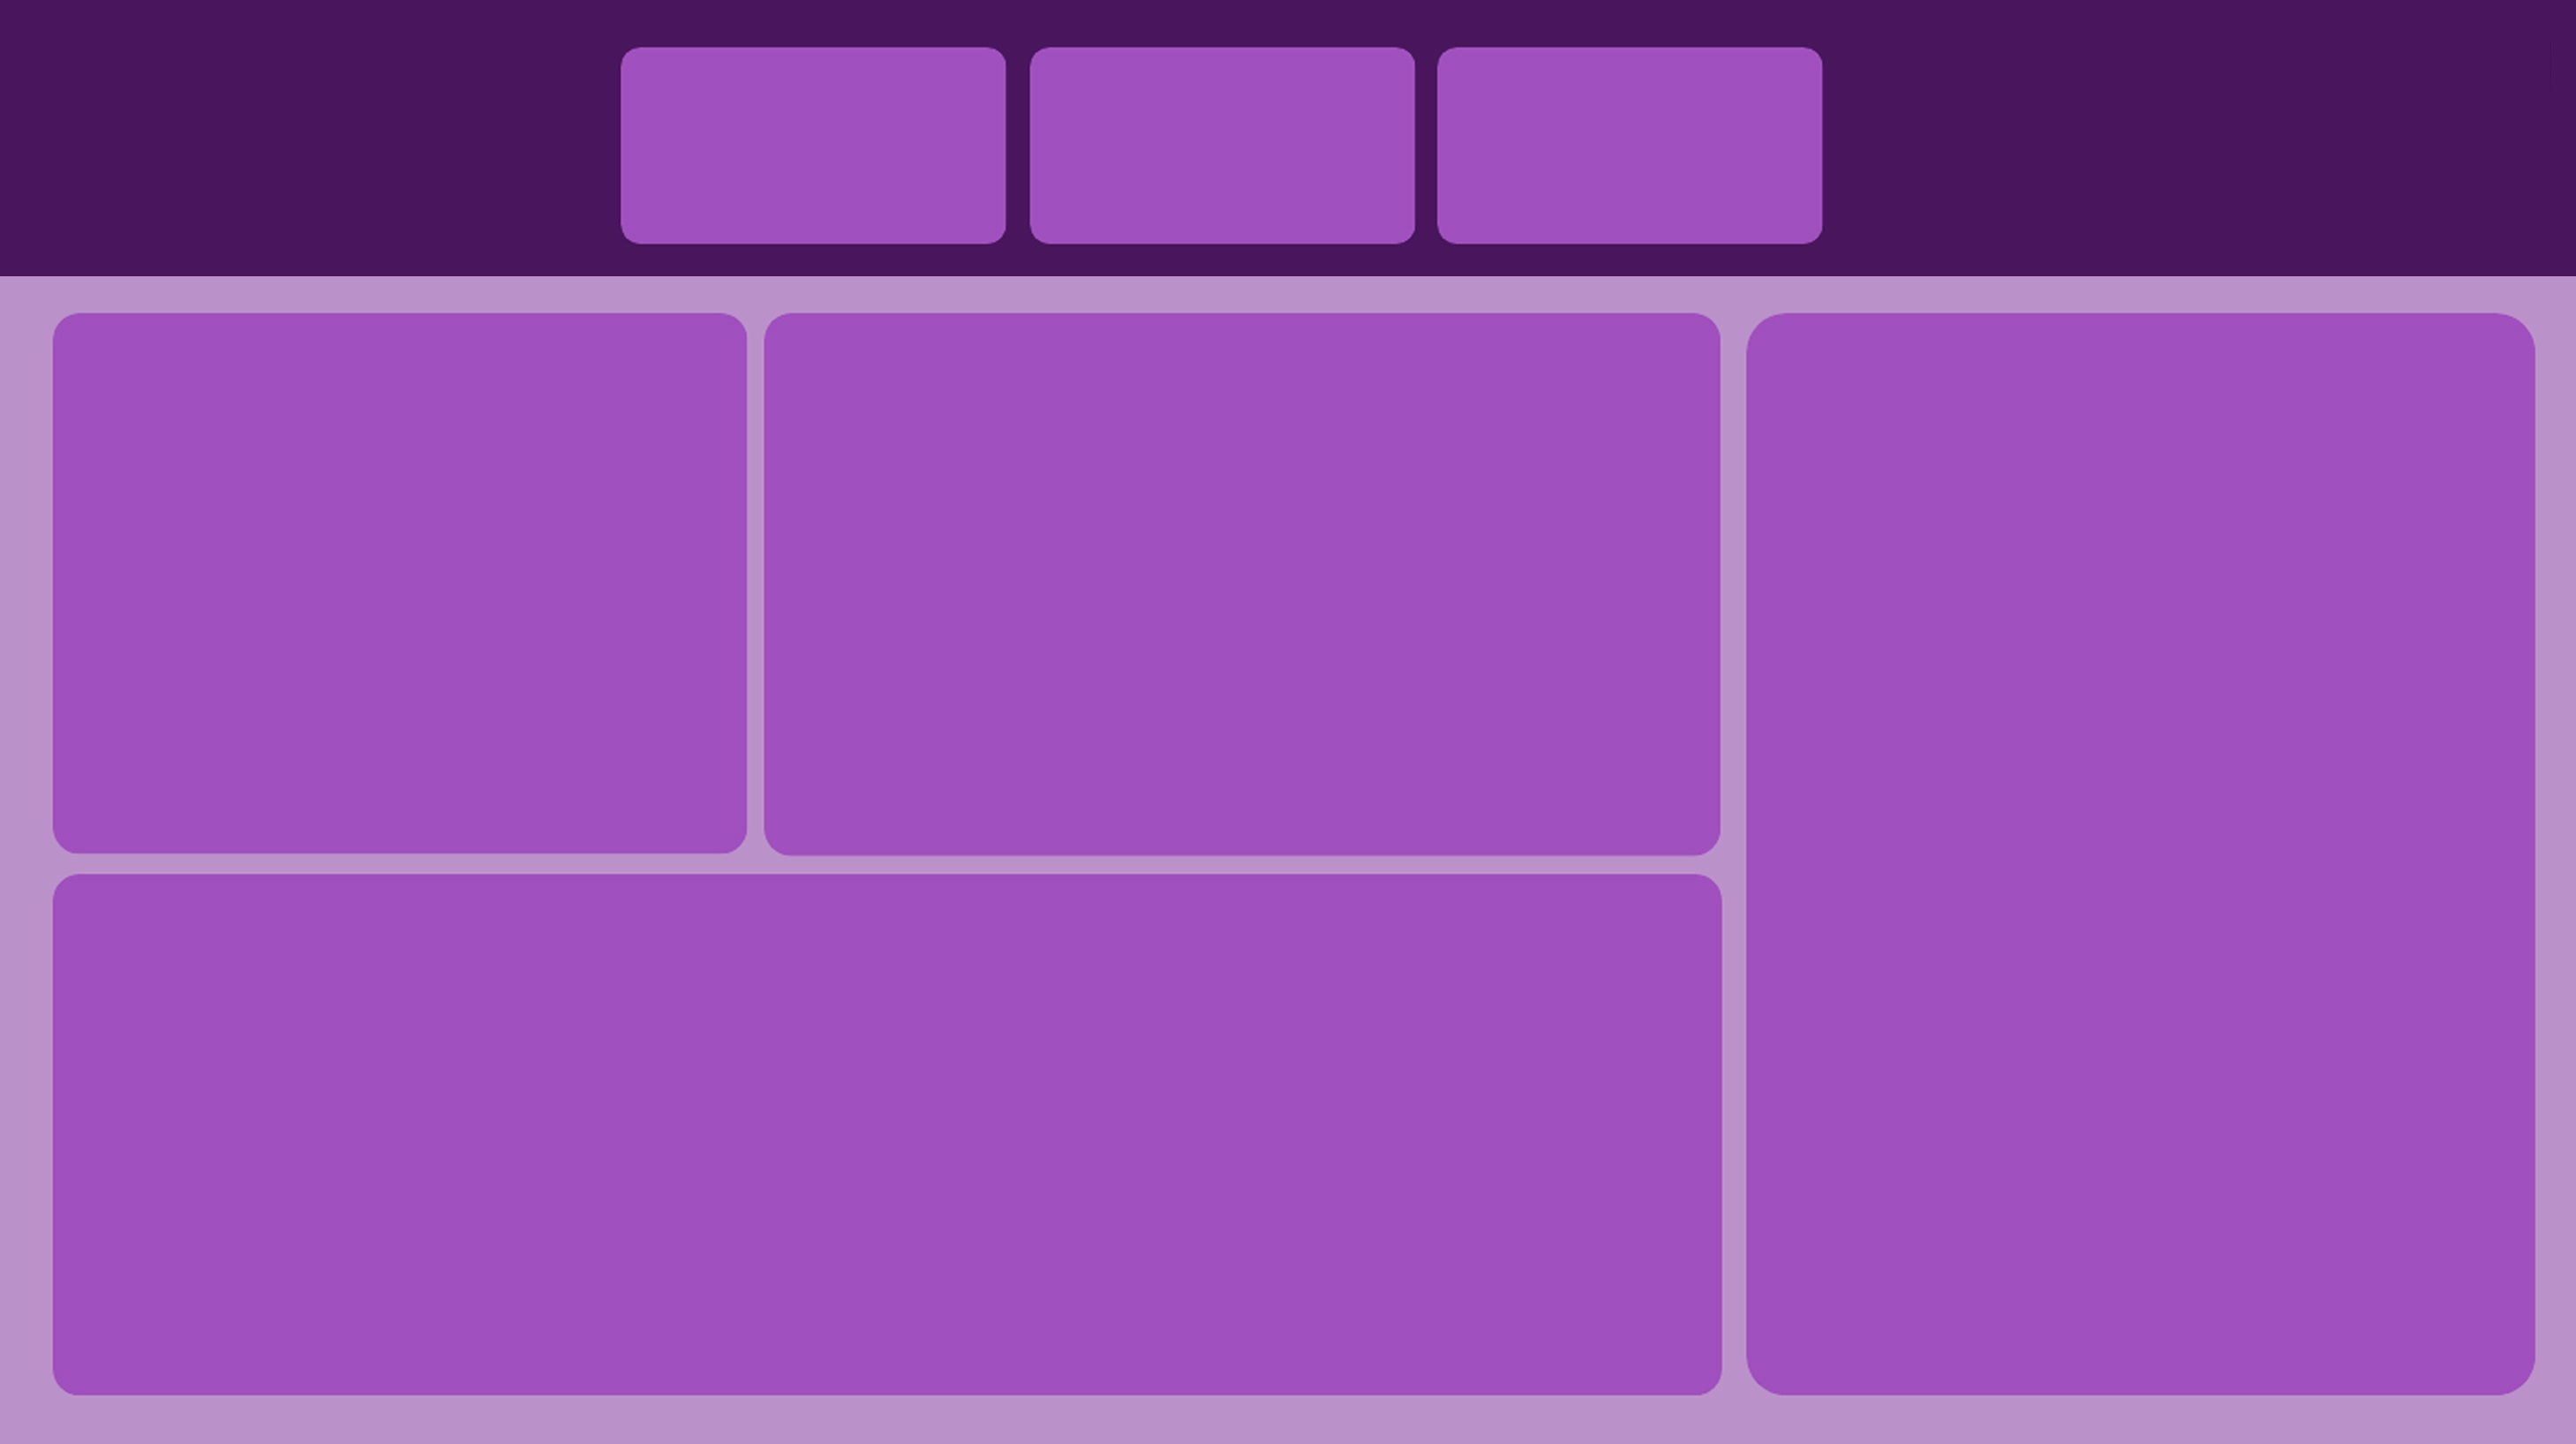

The dashboard page shown, as its layout file describes it:
{"tool":"powerbi","page":{"name":"Página 1","canvas":[1280,720],"ordinal":0},"visuals":[{"type":"card","fields":{"Values":["Vendas.Faturamento Total"]},"box":[306.4,20.2,190.5,104.5],"z":0},{"type":"card","fields":{"Values":["Avg(Clientes.Pets)"]},"box":[511,20.2,192.3,104.5],"z":1000},{"type":"card","fields":{"Values":["Sum(Vendas.Quantidade)"]},"box":[715.6,20.2,187.9,104.5],"z":2000},{"type":"pieChart","fields":{"Category":["Clientes.Gênero"],"Y":["Vendas.Faturamento Total"]},"box":[28.1,158.9,336.3,266.9],"z":3000},{"type":"clusteredBarChart","fields":{"Category":["Clientes.Bairro"],"Y":["Vendas.Faturamento Total"]},"box":[380.2,158.9,472.4,266.9],"z":4000},{"type":"areaChart","fields":{"Category":["Vendas.Data de compra.Variation.Hierarquia de datas.Ano","Vendas.Data de compra.Variation.Hierarquia de datas.Trimestre","Vendas.Data de compra.Variation.Hierarquia de datas.Mês","Vendas.Data de compra.Variation.Hierarquia de datas.Dia"],"Y":["Vendas.Faturamento Total"]},"box":[28.1,440.8,824.5,252],"z":5000},{"type":"ImageGrid_FC5183B9_926C_45E0_B5F7_0CE9EAF1DA9B","fields":{"ImageURL":["Produtos.Url img"]},"box":[867.5,292.4,389,400.4],"z":5001},{"type":"textFilter25A4896A83E0487089E2B90C9AE57C8A","fields":{"field":["Produtos.Nome produto"]},"box":[916.7,20.2,339.8,78.1],"z":5002},{"type":"slicer","fields":{"Values":["Produtos.Marca"]},"box":[867.5,158.9,141.4,104.5],"z":5003},{"type":"slicer","fields":{"Values":["Vendas.Data de compra"]},"box":[1008.9,158.9,247.6,104.5],"z":5004}]}

Visuals, with their boxes in screenshot pixels (x1, y1, x2, y2), scaled from the page's 1280x720 canvas onto the 2576x1444 screenshot:
card - Vendas.Faturamento Total: bbox=[616, 41, 1000, 250]
card - Avg(Clientes.Pets): bbox=[1028, 41, 1415, 250]
card - Sum(Vendas.Quantidade): bbox=[1440, 41, 1819, 250]
pieChart - Clientes.Gênero x Vendas.Faturamento Total: bbox=[56, 319, 734, 854]
clusteredBarChart - Clientes.Bairro x Vendas.Faturamento Total: bbox=[765, 319, 1716, 854]
areaChart - Vendas.Data de compra.Variation.Hierarquia de datas.Ano x Vendas.Data de compra.Variation.Hierarquia de datas.Trimestre: bbox=[56, 884, 1716, 1389]
ImageGrid_FC5183B9_926C_45E0_B5F7_0CE9EAF1DA9B - Produtos.Url img: bbox=[1746, 586, 2528, 1389]
textFilter25A4896A83E0487089E2B90C9AE57C8A - Produtos.Nome produto: bbox=[1845, 41, 2528, 197]
slicer - Produtos.Marca: bbox=[1746, 319, 2030, 529]
slicer - Vendas.Data de compra: bbox=[2030, 319, 2528, 529]
